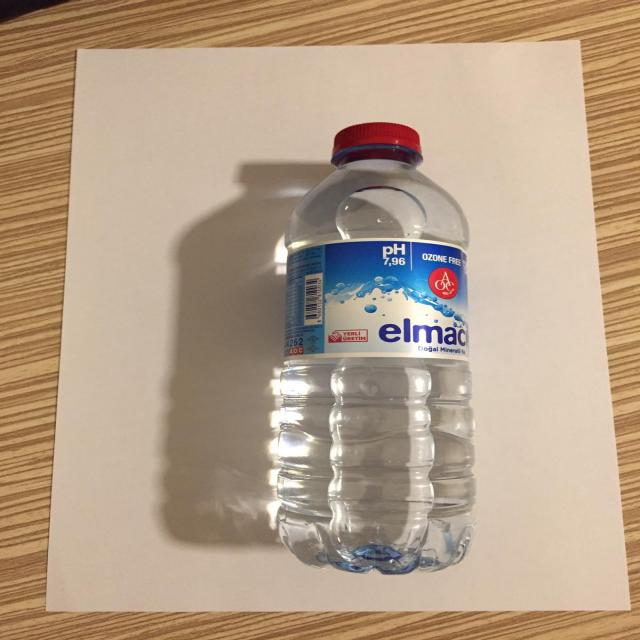bottle: (270, 116, 489, 594)
